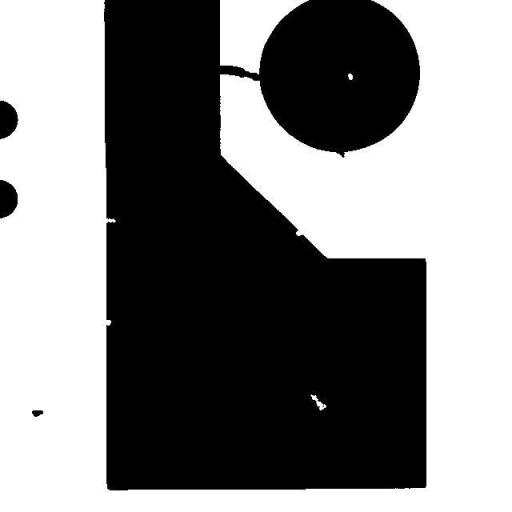copper: (26, 404, 48, 422)
mousebite: (98, 212, 122, 230), (290, 223, 310, 241), (98, 314, 116, 331)
pin-hole: (303, 387, 333, 417), (342, 67, 358, 86)
short: (210, 62, 268, 86)
spur: (329, 142, 351, 164)
